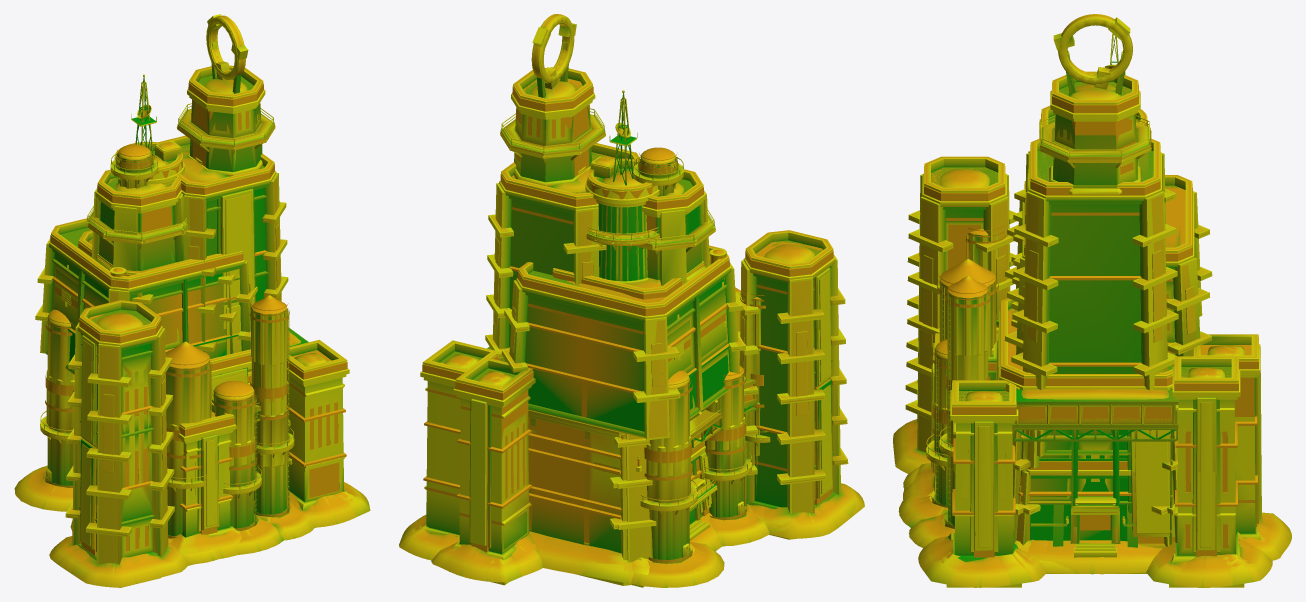
File: buildings.glb
3 renders of one model, left to right at view 1: azimuth 30°, elevation 25°; view 2: azimuth 150°, elevation 25°; view 3: azimuth 270°, elevation 25°, orthographic. The views are drawn at different scales.
Parts seen in each view (by area): view 1: b2_l0_wallLight, b2_l1_wallLight, b9_l0_metal, b9_l1_metal, b3_l0_trim, b6_l0_wall, b0_l0_trim, b1_l0_trim, b9_l0_snow, b2_l0_trim, b9_l0_wall, b3_l1_metal (+57 smaller); view 2: b1_l0_wallDark, b0_l0_wall, b1_l0_trim, b1_l0_wall, b9_l0_wall, b9_l0_metal, b1_l2_trim, b7_l0_wallLight, b9_l1_metal, b3_l0_trim, b1_l0_snow, b1_l1_wallDark (+45 smaller); view 3: b3_l0_wall, b6_l0_wall, b6_l0_snow, b3_l1_metal, b3_l0_trim, b9_l0_metal, b6_l0_trim, b9_l0_snow, b9_l1_metal, b2_l0_wallLight, b0_l0_trim, b6_l1_snow (+57 smaller).
Boxes of the visible parts, bbox=[...] form: b2_l0_wallLight: bbox=[167, 307, 287, 536]; b2_l1_wallLight: bbox=[165, 306, 286, 535]; b9_l0_metal: bbox=[67, 330, 174, 563]; b9_l1_metal: bbox=[65, 322, 174, 564]; b3_l0_trim: bbox=[158, 15, 276, 277]; b6_l0_wall: bbox=[287, 328, 344, 527]; b0_l0_trim: bbox=[78, 144, 251, 511]; b1_l0_trim: bbox=[49, 105, 251, 384]; b9_l0_snow: bbox=[49, 313, 188, 587]; b2_l0_trim: bbox=[165, 295, 294, 538]; b9_l0_wall: bbox=[74, 309, 164, 587]; b3_l1_metal: bbox=[182, 173, 288, 351]; b1_l0_wallDark: bbox=[459, 264, 739, 554]; b0_l0_wall: bbox=[528, 162, 707, 585]; b1_l0_trim: bbox=[453, 123, 731, 534]; b1_l0_wall: bbox=[449, 138, 728, 585]; b9_l0_wall: bbox=[689, 240, 842, 539]; b9_l0_metal: bbox=[689, 263, 846, 513]; b1_l2_trim: bbox=[455, 177, 729, 519]; b7_l0_wallLight: bbox=[646, 292, 761, 559]; b9_l1_metal: bbox=[625, 254, 848, 521]; b3_l0_trim: bbox=[499, 14, 703, 530]; b1_l0_snow: bbox=[431, 157, 661, 582]; b1_l1_wallDark: bbox=[503, 170, 743, 549]; b3_l0_wall: bbox=[1026, 82, 1166, 455]; b6_l0_wall: bbox=[946, 367, 1244, 587]; b6_l0_snow: bbox=[918, 367, 1272, 587]; b3_l1_metal: bbox=[1012, 153, 1178, 507]; b3_l0_trim: bbox=[1028, 14, 1162, 204]; b9_l0_metal: bbox=[907, 197, 1169, 546]; b6_l0_trim: bbox=[950, 356, 1240, 532]; b9_l0_snow: bbox=[893, 169, 1159, 574]; b9_l1_metal: bbox=[905, 174, 1169, 546]; b2_l0_wallLight: bbox=[934, 282, 994, 525]; b0_l0_trim: bbox=[933, 105, 1172, 550]; b6_l1_snow: bbox=[918, 368, 1272, 587].
Size of the model in its own units: 7819 by 11604 by 7810.
